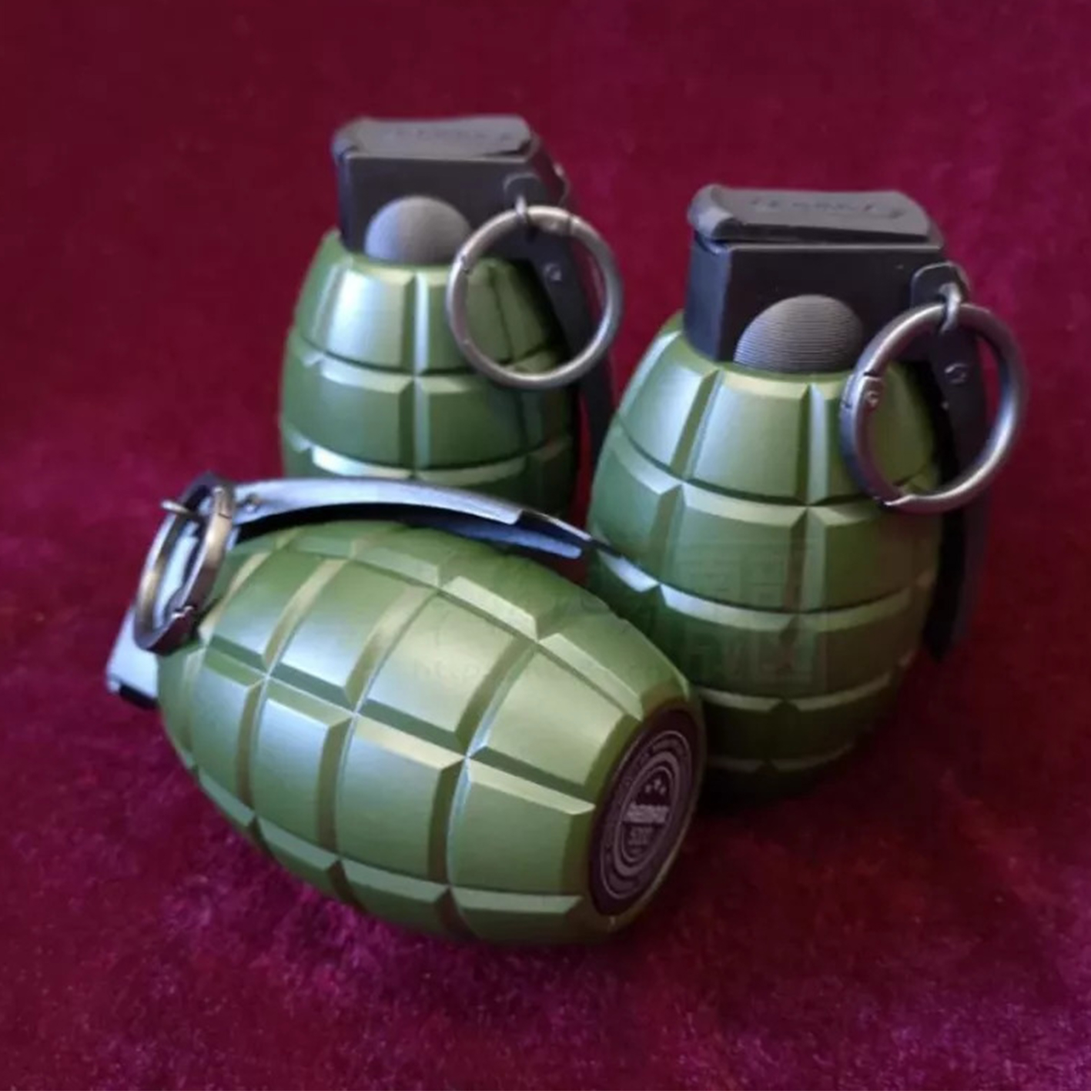mine: (838, 300, 1027, 504), (435, 205, 620, 383), (580, 682, 711, 917)
